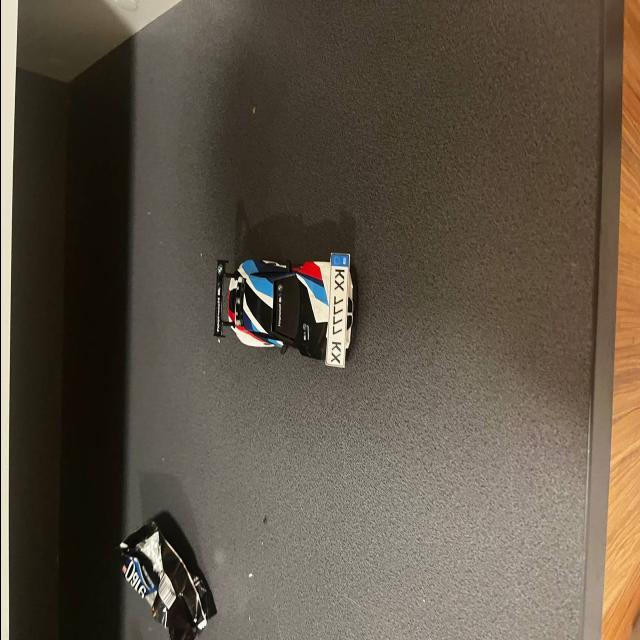cars: (212, 240, 362, 380)
